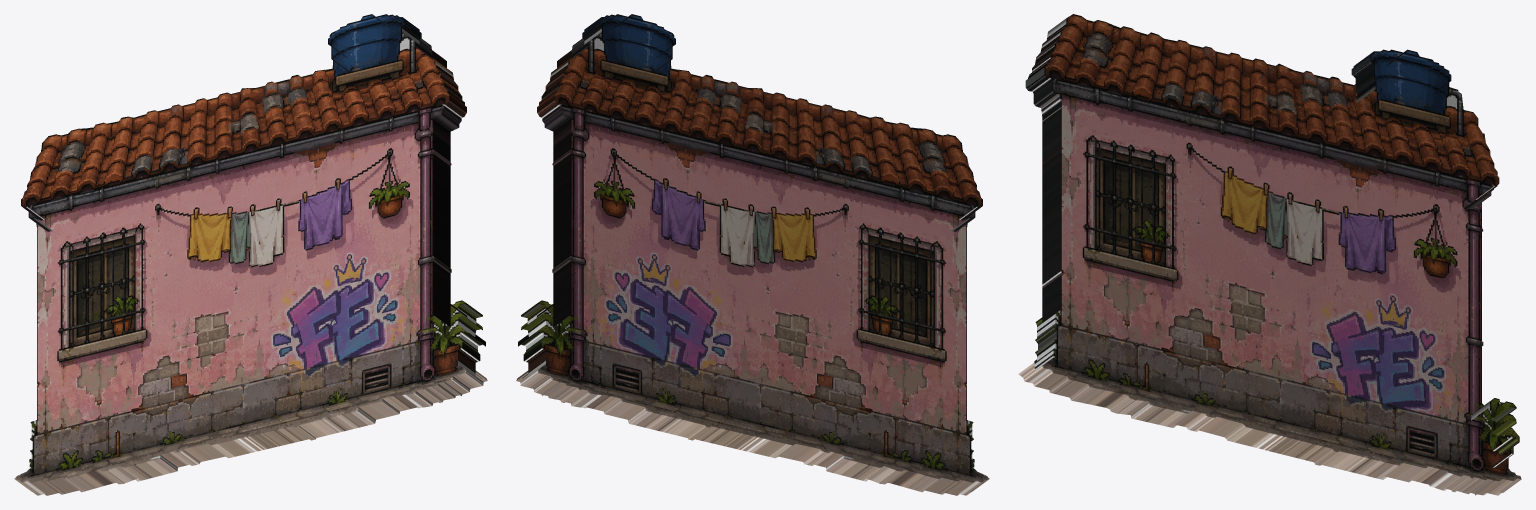
File: house_05_side.glb
3 renders of one model, left to right at view 1: azimuth 30°, elevation 25°; view 2: azimuth 150°, elevation 25°; view 3: azimuth 330°, elevation 25°, orthographic. The views are drawn at different scales.
Visible parts, largest first — view 1: world; view 2: world; view 3: world.
Part boxes in pixels (box(x1,y1,x2,y2)): world: box(14, 14, 487, 495); world: box(516, 14, 989, 495); world: box(1018, 14, 1521, 495).
Bounding box in the file's own units: 7.85 × 6.49 × 0.52.
Materials: 1 (1 with a texture image).
